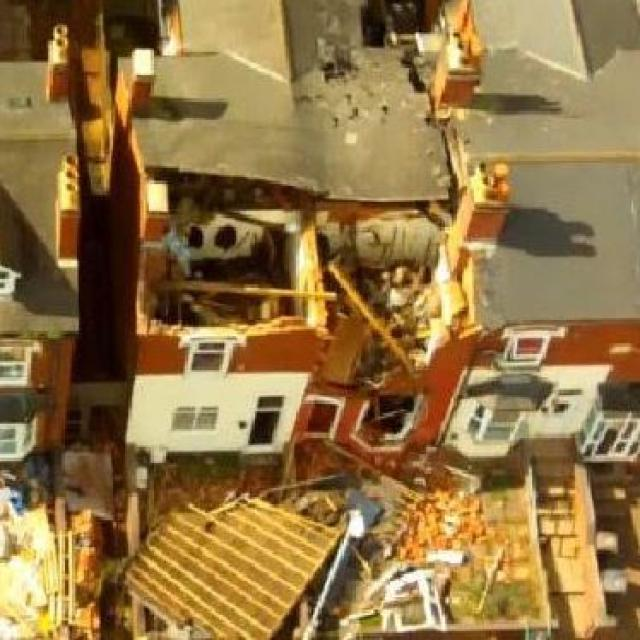collapsed_building: (134, 476, 600, 638), (133, 148, 304, 456), (308, 175, 465, 476)
